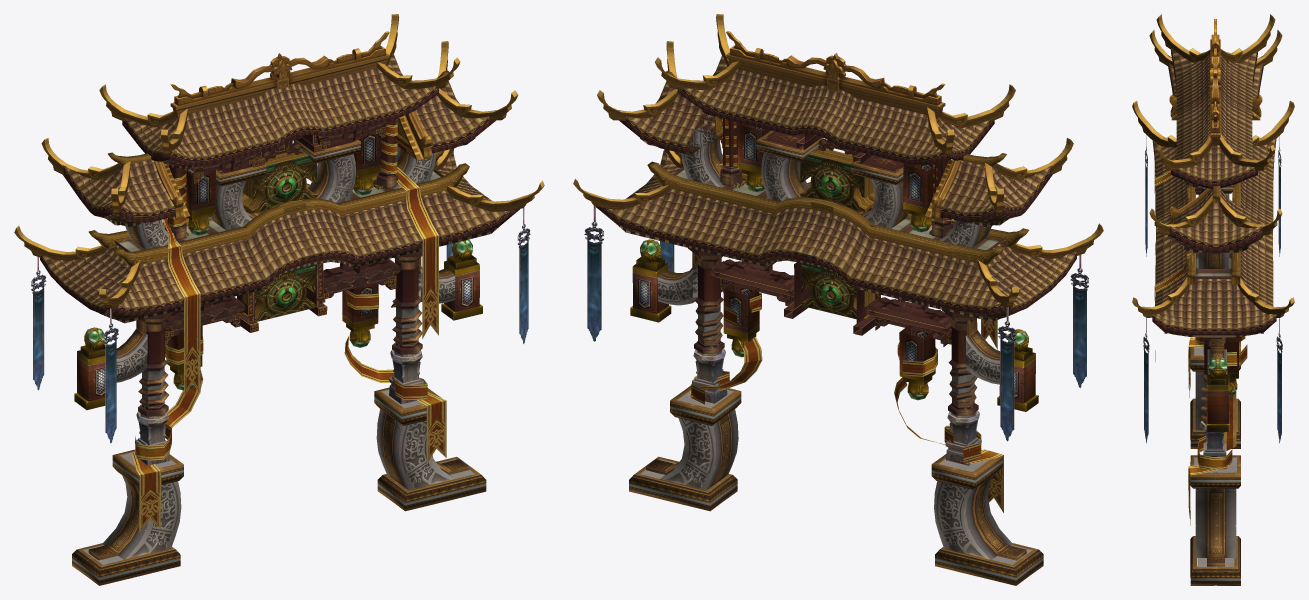
File: SC106jingji.FBX
3 views of the same model, side by side, from view 1: azimuth 30°, elevation 25°; view 2: azimuth 150°, elevation 25°; view 3: azimuth 270°, elevation 25° (orthographic). The views are drawn at different scales.
Parts seen in each view (by area): view 1: SC106jingji03, SC106jingji02, SC106jingji01, SC106jingji, Plane004, Line002; view 2: SC106jingji03, SC106jingji02, SC106jingji01, Plane004, SC106jingji, Line001; view 3: SC106jingji02, SC106jingji03, SC106jingji01, Plane004, SC106jingji, Line001.
Boxes of the visible parts, x1,y1,x2,y2 form: SC106jingji03: [72, 70, 486, 585]; SC106jingji02: [40, 53, 519, 315]; SC106jingji01: [14, 14, 544, 465]; SC106jingji: [131, 290, 446, 532]; Plane004: [31, 207, 530, 443]; Line002: [166, 370, 203, 427]; SC106jingji03: [629, 71, 1043, 585]; SC106jingji02: [596, 55, 1076, 314]; SC106jingji01: [573, 14, 1103, 465]; Plane004: [584, 205, 1088, 441]; SC106jingji: [688, 293, 1003, 512]; Line001: [698, 337, 762, 388]; SC106jingji02: [1152, 48, 1276, 334]; SC106jingji03: [1154, 170, 1240, 585]; SC106jingji01: [1132, 14, 1294, 472]; Plane004: [1143, 135, 1282, 443]; SC106jingji: [1188, 337, 1247, 525]; Line001: [1223, 391, 1236, 450].
Bounding box in the file's own units: 23.68 × 24.09 × 8.15.
